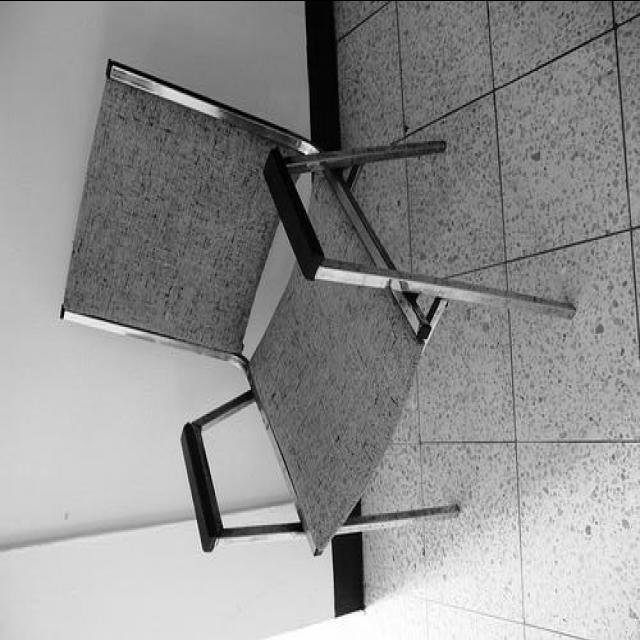chair: (63, 51, 577, 562)
